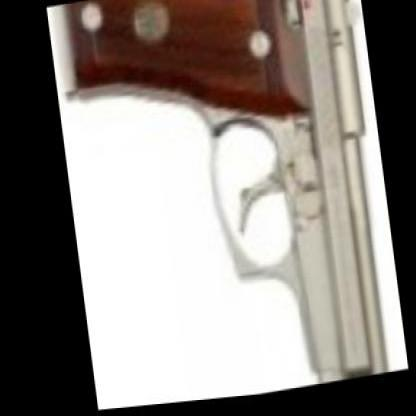pistol: (65, 0, 403, 409)
